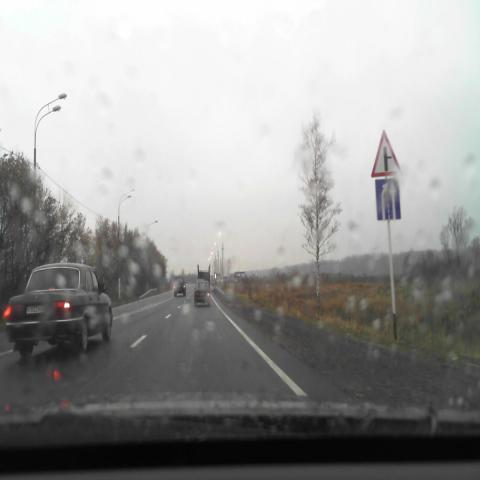2_3_2: (370, 130, 402, 177)
5_15_5: (375, 178, 401, 221)
